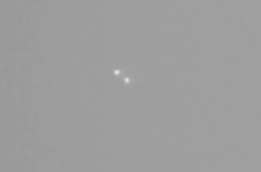Target: (115, 71, 129, 83)
